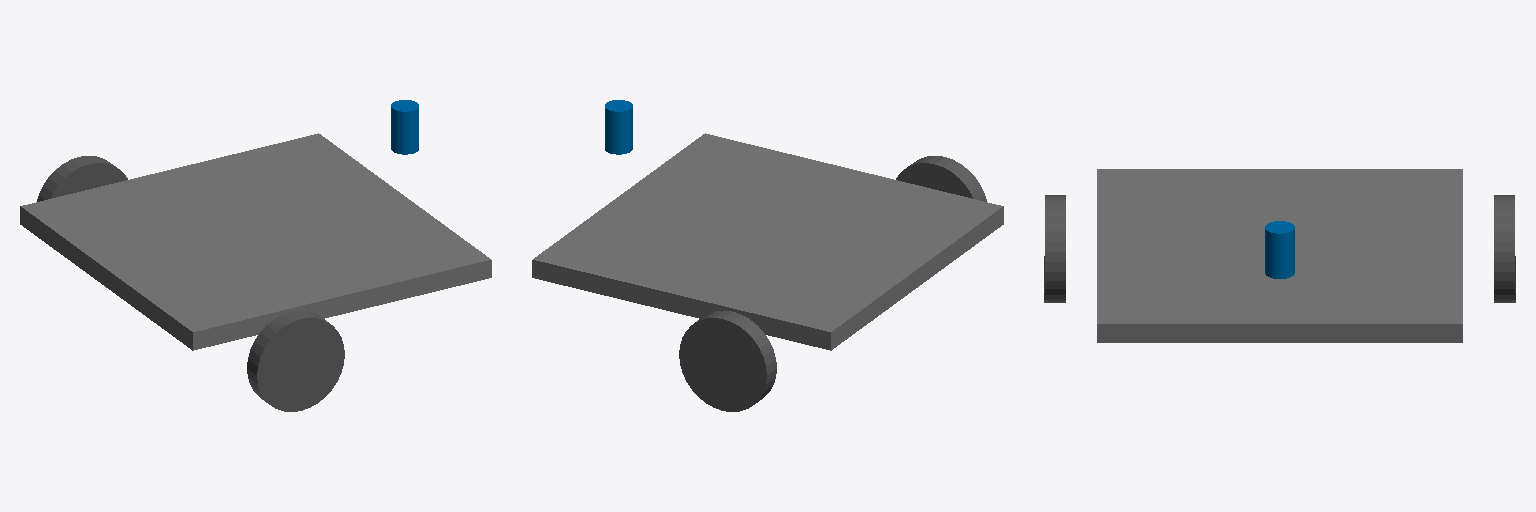
robot.urdf — delibot:
<?xml version="1.0" ?>
<robot name="delibot">

  <material name="black">
    <color rgba="0.0 0.0 0.0 1.0"/>
  </material>
  <material name="orange">
    <color rgba="1.0 0.4 0.0 1.0"/>
  </material>
    <material name="grey">
    <color rgba="0.5 0.5 0.5 1.0"/>
  </material>
  <material name="light_black">
    <color rgba="0.4 0.4 0.4 1.0"/>
  </material>

<link name="base_footprint"/>

  <joint name="base_joint" type="fixed">
    <parent link="base_footprint"/>
    <child link="base_link" />
    <origin xyz="0 0 0.117" rpy="0 0 0"/>
  </joint>

  <link name="base_link">
    <visual>
      <origin xyz=" 0.1125 0 0" rpy="0 0 0"/>
      <geometry>
        <box size="0.51 0.51 0.03"/>
      </geometry>
      <material name="grey"/>
    </visual>

    <collision>
      <origin xyz=" 0.1125 0 0" rpy="0 0 0"/>
      <geometry>
        <box size="0.51 0.51 0.03"/>
      </geometry>
    </collision>
    
    <inertial>
      <origin xyz="0 0 0" rpy="0 0 0"/>
      <mass value="1.3729096e+00"/>
      <inertia ixx="8.7002718e-03" ixy="-4.7576583e-05" ixz="1.1160499e-04"
               iyy="8.6195418e-03" iyz="-3.5422299e-06"
               izz="1.4612727e-02" />
    </inertial>
  </link>

  <joint name="wheel_left_joint" type="fixed">
    <parent link="base_link"/>
    <child link="wheel_left_link"/>
    <origin xyz="0 0.313 -0.042" rpy="-1.57 0 0"/>
    <axis xyz="0 0 1"/>
  </joint>

  <link name="wheel_left_link">
    <visual>
      <origin xyz="0 0 0" rpy="0 0 0"/>
      <geometry>
         <cylinder length="0.03" radius="0.075"/>
      </geometry>
      <material name="light_black"/>
    </visual>

    <collision>
      <origin xyz="0 0 0" rpy="0 0 0"/>
      <geometry>
         <cylinder length="0.03" radius="0.075"/>
      </geometry>
    </collision>

    <inertial>
      <origin xyz="0 0 0" />
      <mass value="2.8498940e-02" />
      <inertia ixx="1.1175580e-05" ixy="-4.2369783e-11" ixz="-5.9381719e-09"
               iyy="1.1192413e-05" iyz="-1.4400107e-11"
               izz="2.0712558e-05" />
      </inertial>
  </link>

  <joint name="wheel_right_joint" type="fixed">
    <parent link="base_link"/>
    <child link="wheel_right_link"/>
    <origin xyz="0 -0.313 -0.042" rpy="1.57 0 0"/>
    <axis xyz="0 0 -1"/>
  </joint>

  <link name="wheel_right_link"> 
    <visual>
      <origin xyz="0 0 0" rpy="0 0 0"/>
      <geometry>
         <cylinder length="0.03" radius="0.075"/>
      </geometry>
      <material name="light_black"/>
    </visual>

    <collision>
      <origin xyz="0 0 0" rpy="0 0 0"/>
      <geometry>
         <cylinder length="0.03" radius="0.075"/>
      </geometry>
    </collision>

    <inertial>
      <origin xyz="0 0 0" />
      <mass value="2.8498940e-02" />
      <inertia ixx="1.1175580e-05" ixy="-4.2369783e-11" ixz="-5.9381719e-09"
               iyy="1.1192413e-05" iyz="-1.4400107e-11"
               izz="2.0712558e-05" />
      </inertial>
  </link>

  <joint name="scan_joint" type="fixed">
    <parent link="base_link"/>
    <child link="base_scan"/>
    <origin xyz="0.3675 0 0.1455" rpy="0 0 0"/>
  </joint>

  <link name="base_scan">
    <visual>
      <origin xyz="0 0 -0.0175" rpy="0 0 0"/>
      <geometry>
        <cylinder length="0.07" radius="0.021"/>
      </geometry>
      <material name="dark"/>
    </visual>

    <collision>
      <origin xyz="0 0 -0.0175" rpy="0 0 0"/>
      <geometry>
        <cylinder length="0.07" radius="0.021"/>
      </geometry>
    </collision>

    <inertial>
      <mass value="0.114" />
      <origin xyz="0 0 0" />
      <inertia ixx="0.001" ixy="0.0" ixz="0.0"
               iyy="0.001" iyz="0.0"
               izz="0.001" />
    </inertial>
  </link>

</robot>

--- What the picture shows (computed from the rendered views, not written in the file) ---
Views: 3 orthographic renders of the robot side by side, from view 1: azimuth 30°, elevation 25°; view 2: azimuth 150°, elevation 25°; view 3: azimuth 270°, elevation 25°.
Model delibot with 5 links and 4 joints (4 fixed), rooted at base_footprint, posed all joints at 0.
Visible links, largest first — view 1: base_link, wheel_right_link, wheel_left_link, base_scan; view 2: base_link, wheel_left_link, wheel_right_link, base_scan; view 3: base_link, wheel_left_link, wheel_right_link, base_scan.
Boxes of the visible links, x1,y1,x2,y2 form: base_link: [20, 133, 491, 350]; wheel_right_link: [247, 310, 344, 411]; wheel_left_link: [37, 156, 127, 201]; base_scan: [391, 100, 418, 154]; base_link: [532, 133, 1003, 350]; wheel_left_link: [679, 310, 776, 411]; wheel_right_link: [896, 156, 986, 201]; base_scan: [605, 100, 632, 154]; base_link: [1097, 169, 1462, 342]; wheel_left_link: [1494, 195, 1515, 302]; wheel_right_link: [1044, 195, 1065, 302]; base_scan: [1265, 221, 1294, 278].
Size in the robot's own frame: 0.531 by 0.6561 by 0.28 metres.
Geometry: primitives only (box / cylinder / sphere), no mesh files.